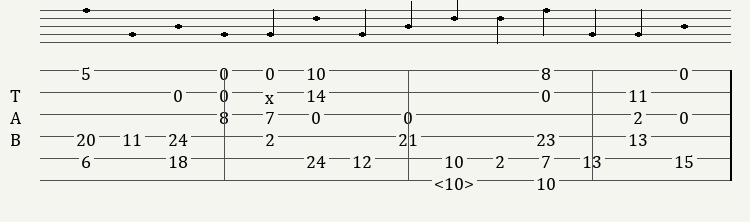0: (173, 84, 187, 100), (219, 84, 233, 100), (219, 62, 233, 78), (265, 62, 279, 78), (311, 106, 325, 122), (403, 106, 417, 122), (541, 84, 555, 100), (679, 62, 693, 78), (679, 106, 693, 122)
10: (306, 62, 330, 78), (444, 150, 468, 166), (536, 172, 560, 188)
11: (122, 128, 146, 144), (628, 84, 652, 100)
12: (352, 150, 376, 166)
13: (582, 150, 606, 166), (628, 128, 652, 144)
14: (306, 84, 330, 100)
15: (674, 150, 698, 167)
18: (168, 150, 192, 166)
2: (265, 128, 279, 144), (495, 150, 509, 166), (633, 106, 647, 122)
20: (76, 128, 100, 144)
21: (398, 128, 422, 144)
23: (536, 128, 560, 144)
24: (168, 128, 192, 144), (306, 150, 330, 166)
5: (81, 62, 95, 79)
6: (81, 150, 95, 166)
7: (265, 106, 279, 123), (541, 150, 555, 167)
8: (219, 106, 233, 122), (541, 62, 555, 78)
harmonic: (434, 172, 478, 188)
x: (265, 86, 278, 99)
